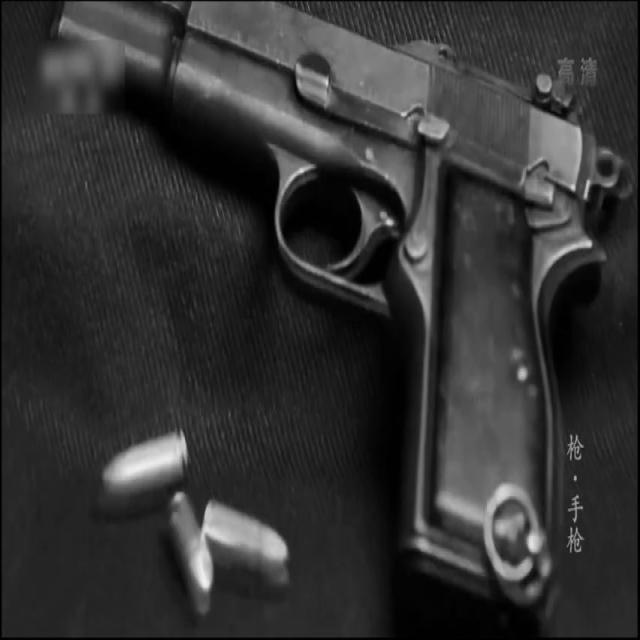Hand-Gun: (54, 0, 620, 602)
